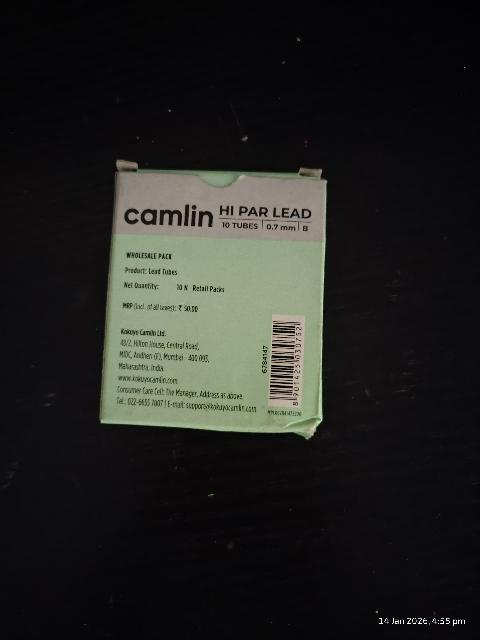camlin marker ink: (106, 147, 319, 436)
